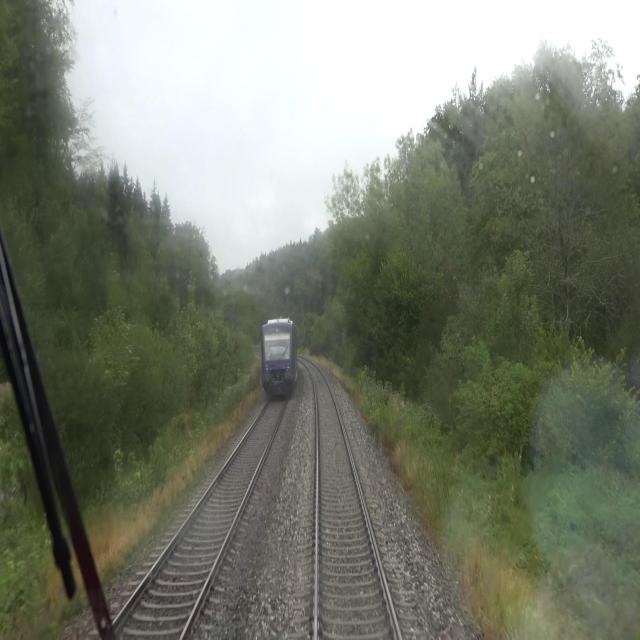rail-track: (118, 396, 284, 639), (308, 364, 396, 639)
